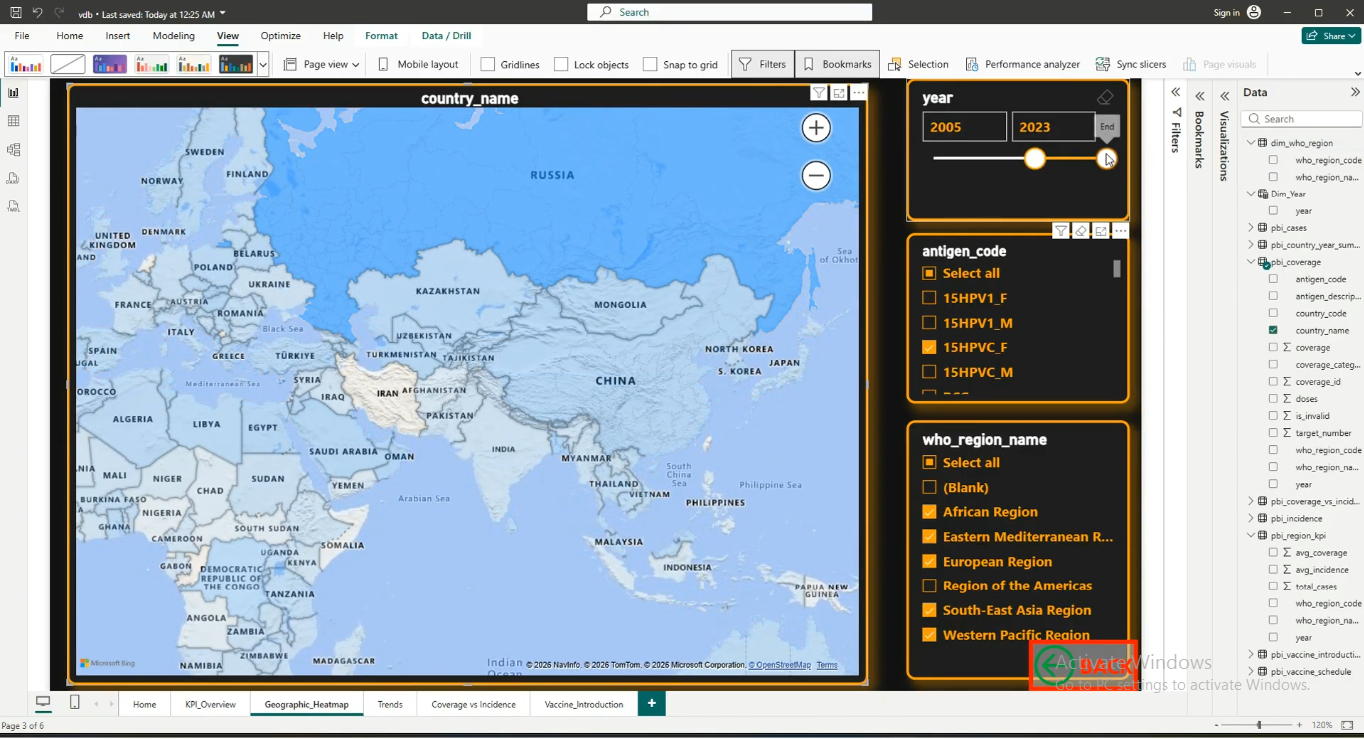

The dashboard page shown, as its layout file describes it:
{"tool":"powerbi","page":{"name":"Geographic_Heatmap","canvas":[1280,720],"ordinal":2},"visuals":[{"type":"filledMap","fields":{"Category":["pbi_coverage.country_name","pbi_coverage.coverage"]},"box":[9.8,0,897.5,720.9],"z":0},{"type":"slicer","fields":{"Values":["pbi_coverage.antigen_code"]},"box":[1004.6,181.8,262.5,200.4],"z":1000},{"type":"slicer","fields":{"Values":["Dim_Year.year"]},"box":[1004.6,0,262.5,168.5],"z":2000},{"type":"slicer","fields":{"Values":["dim_who_region.who_region_name"]},"box":[1005.5,401.7,261.6,305],"z":3000},{"type":"actionButton","box":[1148.3,659.5,127.8,60],"z":4000}]}

Visuals, with their boxes on the page's 1280x720 design canvas (x1, y1, x2, y2). These are canvas units, not pixel positions in the 1364x739 screenshot, which may show the page scaled, cropped or inside an application window:
filledMap - pbi_coverage.country_name x pbi_coverage.coverage: 10, 0, 907, 721
slicer - pbi_coverage.antigen_code: 1005, 182, 1267, 382
slicer - Dim_Year.year: 1005, 0, 1267, 168
slicer - dim_who_region.who_region_name: 1006, 402, 1267, 707
actionButton: 1148, 660, 1276, 720
